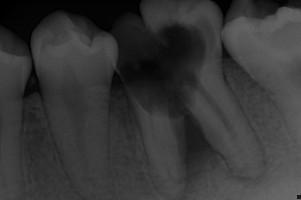Dental Caries: (182, 115, 225, 197), (228, 160, 270, 189)
